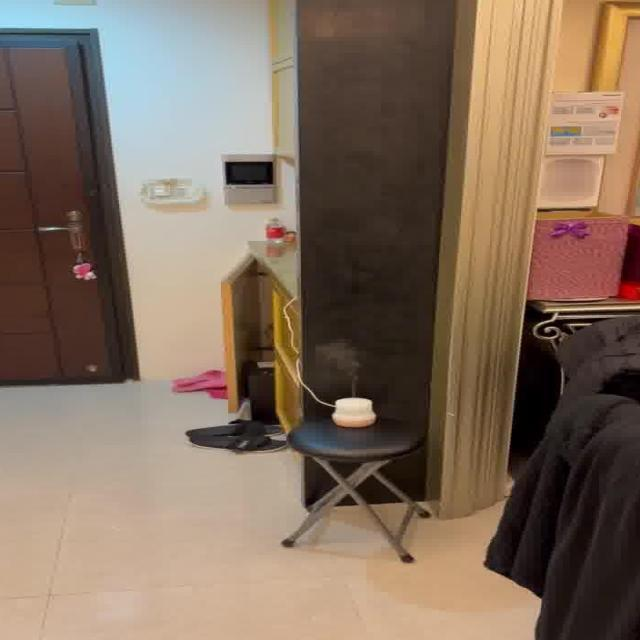fire: (314, 339, 366, 392)
